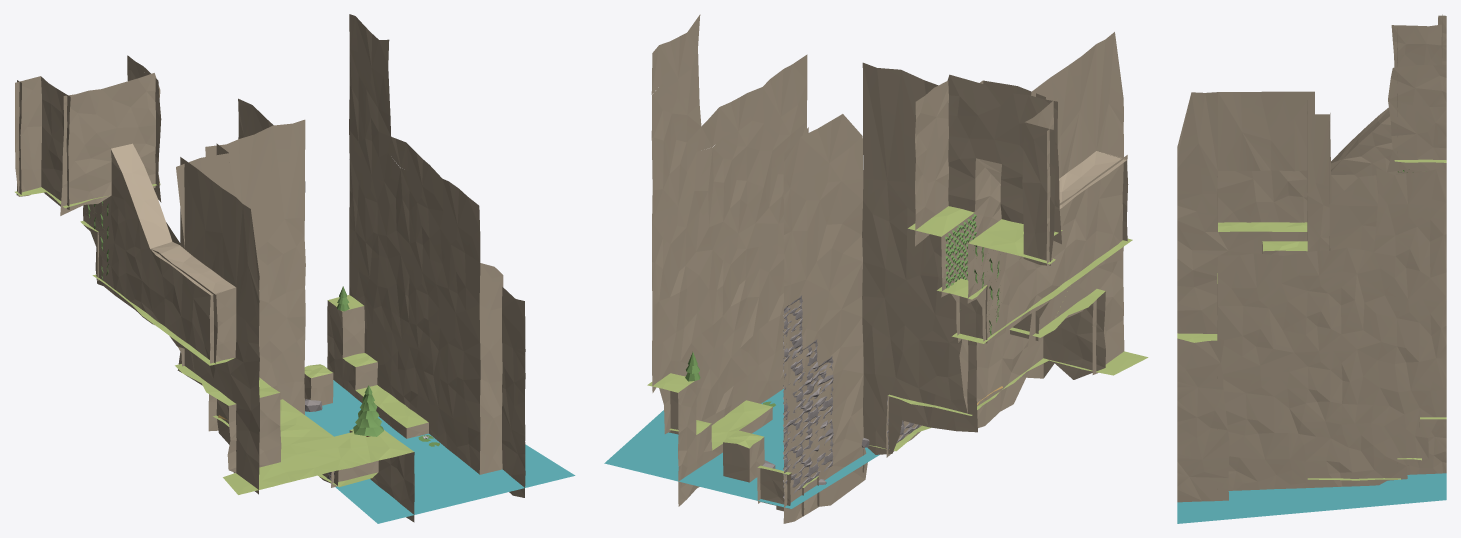
3 views of the same model, side by side, from view 1: azimuth 30°, elevation 25°; view 2: azimuth 150°, elevation 25°; view 3: azimuth 270°, elevation 25° (orthographic). The views are drawn at different scales.
Visible parts, largest first — view 1: 7; view 2: 7; view 3: 7.
Boxes of the visible parts, bbox=[...] form: 7: bbox=[15, 14, 575, 523]; 7: bbox=[604, 14, 1148, 523]; 7: bbox=[1177, 14, 1446, 523].
Size of the model in its own units: 18.48 by 17.22 by 12.
Materials: 1 (1 with a texture image).
